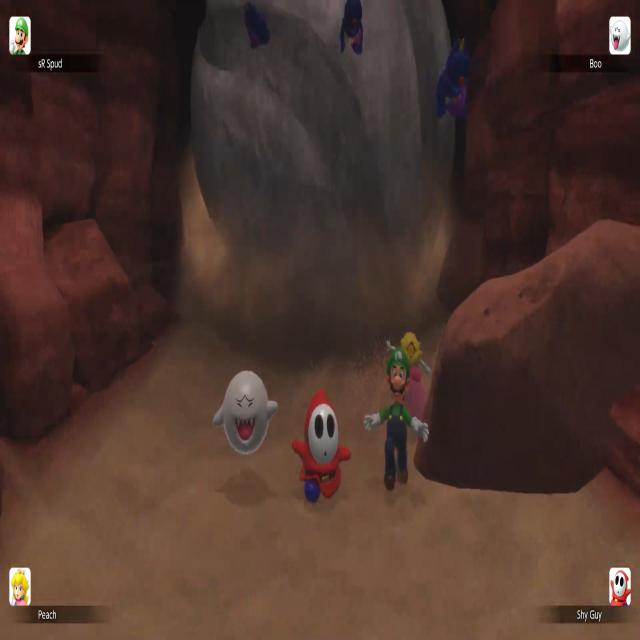Boo: (214, 372, 278, 455)
Luigi: (364, 349, 428, 490)
Peach: (387, 332, 433, 428)
Shy Guy: (292, 388, 351, 504)
obstacle: (192, 0, 453, 341), (414, 222, 640, 494)
